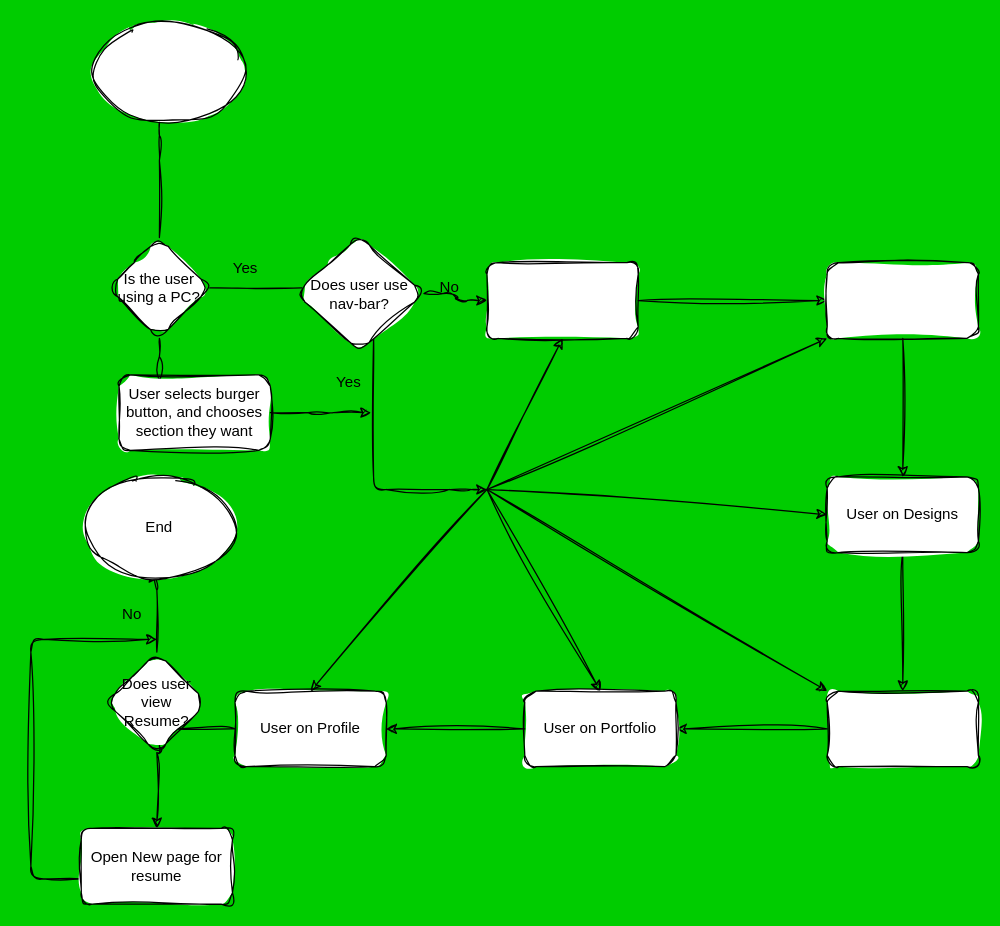
This 1000x926 diagram has some shape labels left out. The centre of each missing label's shape, as x and y in pixels:
Start: the point at 169,72
User on Blogs: the point at 902,299
User on Essay: the point at 902,728
User on Homepage: the point at 562,299
